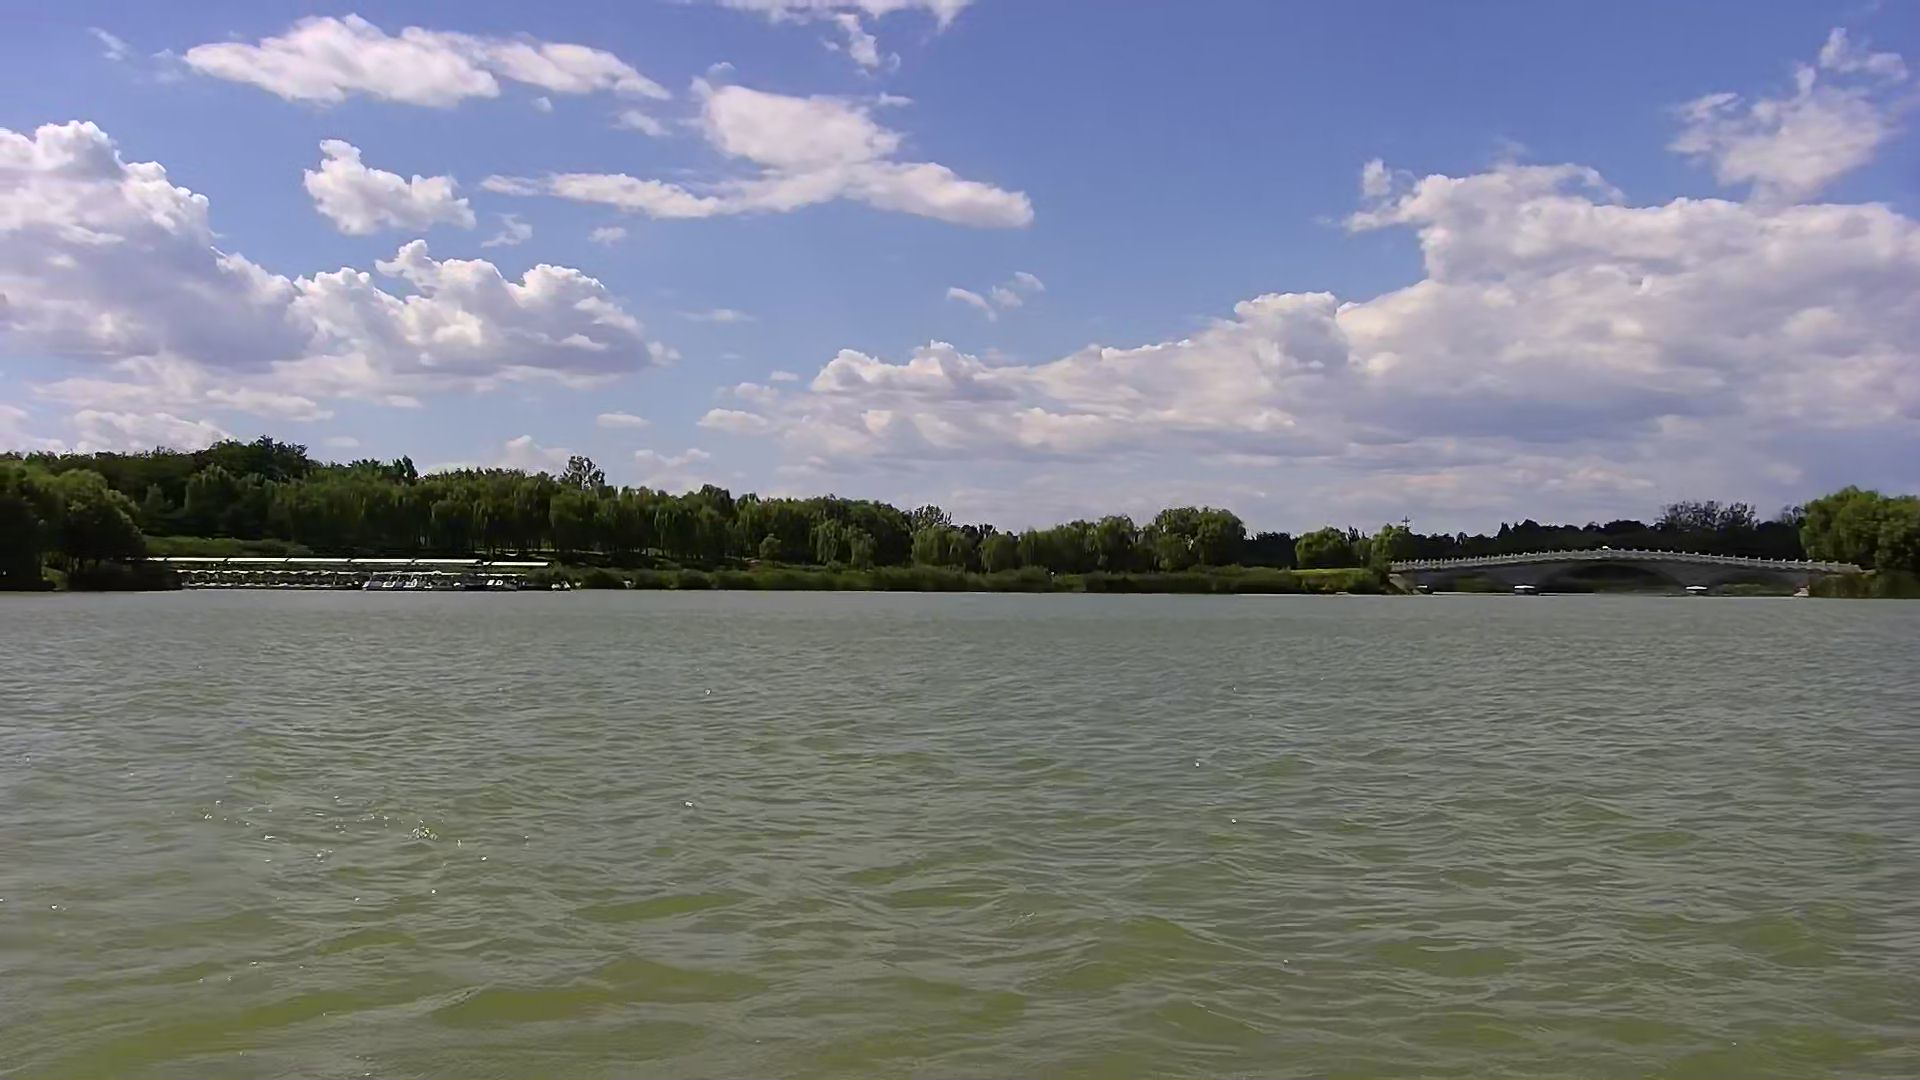bridge: (1394, 547, 1871, 604)
harbor: (150, 555, 549, 592)
